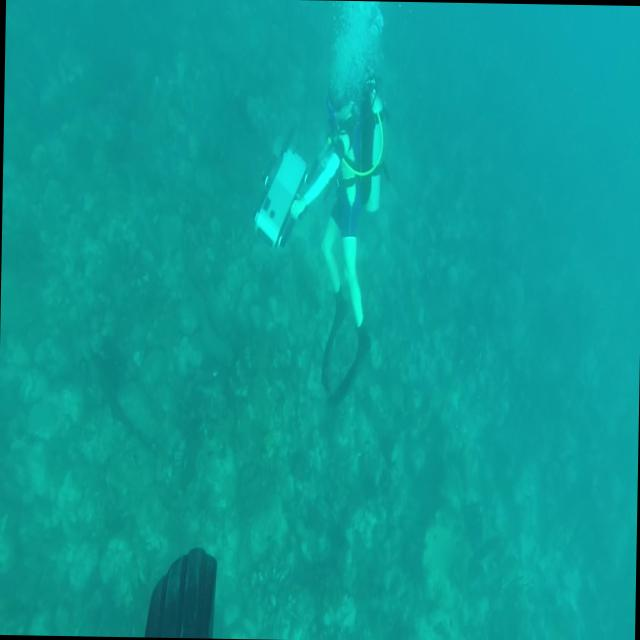human: (285, 65, 391, 408)
